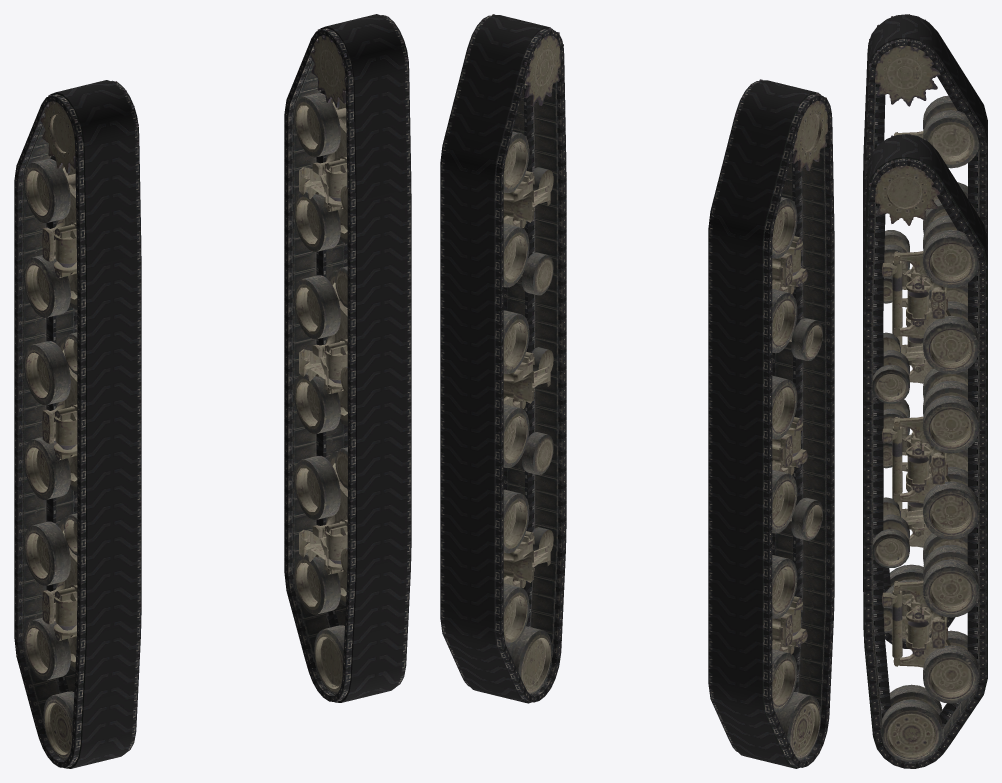
Rendered from Chassis.glb.
The picture shows the model from 3 angles, left to right: view 1: azimuth 30°, elevation 25°; view 2: azimuth 150°, elevation 25°; view 3: azimuth 270°, elevation 25°; orthographic projection. The views are drawn at different scales.
Visible parts, largest first — view 1: set_1_group_0, set_0_group_0, set_3_group_0, set_2_group_0; view 2: set_1_group_0, set_0_group_0, set_3_group_0, set_2_group_0; view 3: set_3_group_0, set_0_group_0, set_2_group_0, set_1_group_0.
Part boxes in pixels (x1,y1,x2,y2): set_1_group_0: [14, 80, 141, 768]; set_0_group_0: [284, 14, 411, 702]; set_3_group_0: [294, 15, 408, 693]; set_2_group_0: [24, 81, 138, 760]; set_1_group_0: [708, 80, 834, 768]; set_0_group_0: [440, 14, 566, 703]; set_3_group_0: [468, 14, 563, 693]; set_2_group_0: [735, 79, 828, 760]; set_3_group_0: [869, 133, 978, 761]; set_0_group_0: [863, 134, 987, 768]; set_2_group_0: [869, 14, 978, 640]; set_1_group_0: [863, 14, 987, 648].
Size of the model in its own units: 3.14 by 6.09 by 1.13.
Materials: 4 (4 with a texture image).
